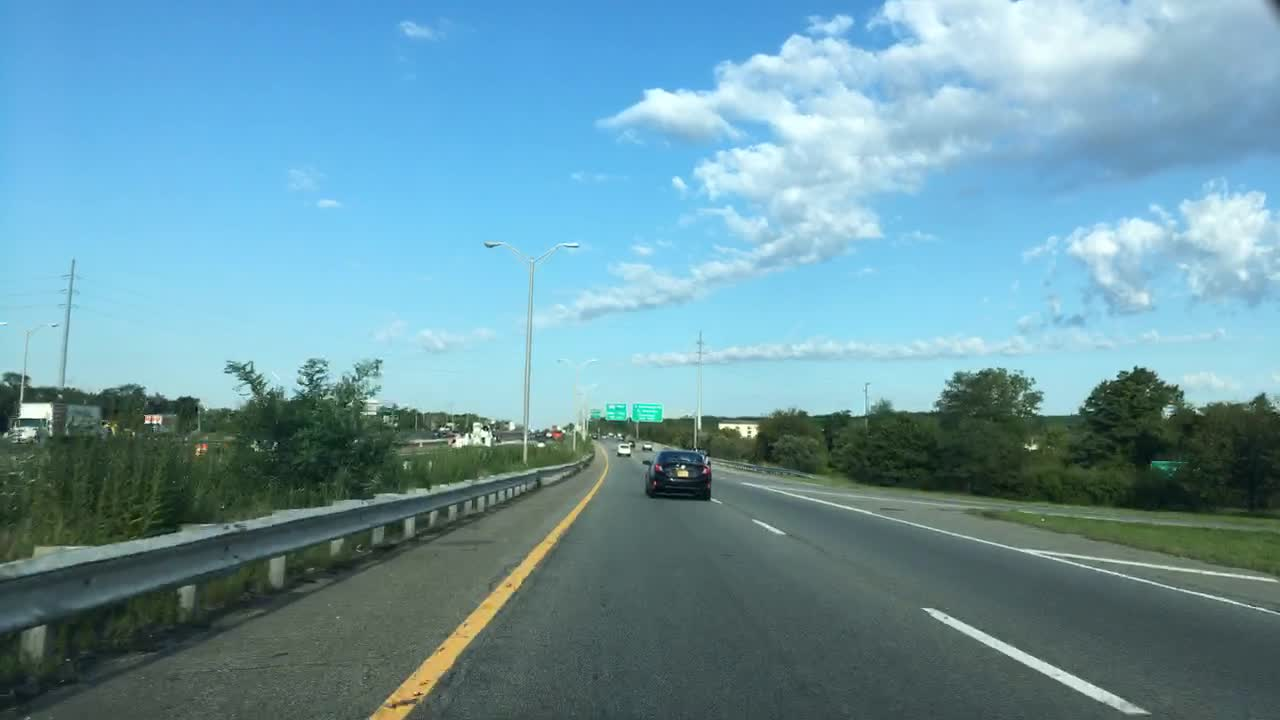car: (640, 451, 713, 499), (188, 440, 235, 462), (1146, 459, 1190, 477), (616, 444, 630, 456), (640, 440, 651, 449)
traffic sign: (630, 401, 663, 422), (603, 401, 625, 421), (588, 406, 600, 421)
truck: (8, 401, 103, 444)
